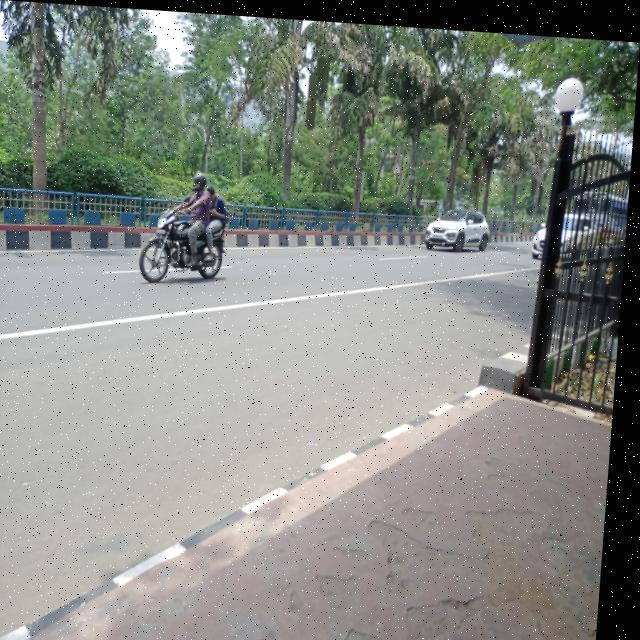bike: (133, 204, 234, 283)
car: (420, 187, 501, 257)
